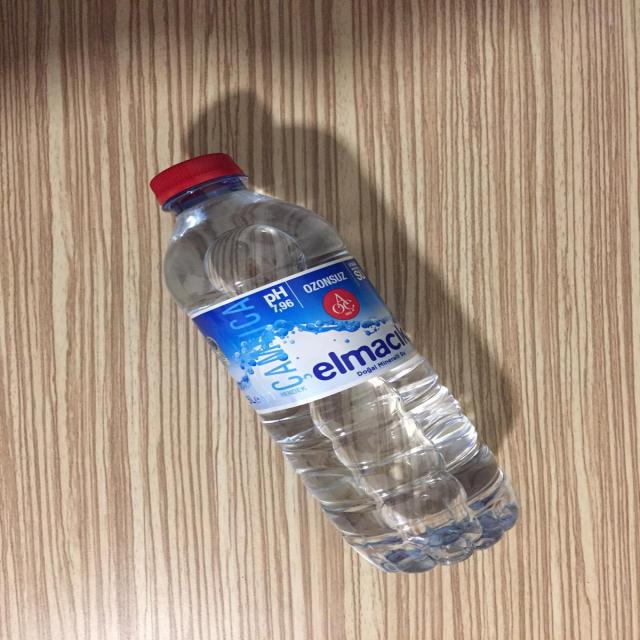bottle: (126, 150, 555, 584)
